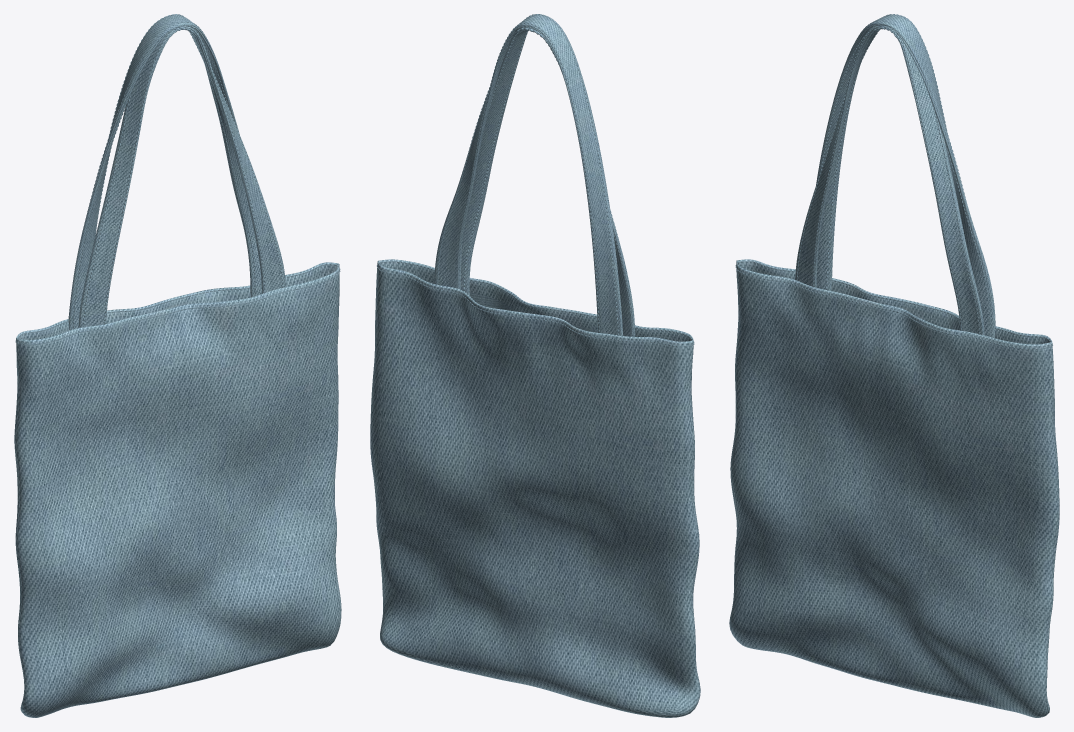
The picture shows the model from 3 angles, left to right: view 1: azimuth 30°, elevation 25°; view 2: azimuth 150°, elevation 25°; view 3: azimuth 330°, elevation 25°; orthographic projection.
Parts seen in each view (by area): view 1: Tui, Tay cam, Chi Tay Cam.005, Chi Tay Cam.001; view 2: Tui, Object001, Tay cam, Chi Tay Cam.007, Chi Tay Cam.003; view 3: Tui, Tay cam, Chi Tay Cam.005, Chi Tay Cam.001.
Boxes of the visible parts, x1=… form: Tui: x1=14, y1=262, x2=341, y2=717; Tay cam: x1=68, y1=14, x2=285, y2=330; Chi Tay Cam.005: x1=104, y1=26, x2=265, y2=324; Chi Tay Cam.001: x1=83, y1=73, x2=283, y2=327; Tui: x1=370, y1=259, x2=700, y2=717; Object001: x1=468, y1=400, x2=588, y2=580; Tay cam: x1=434, y1=14, x2=635, y2=336; Chi Tay Cam.007: x1=457, y1=23, x2=599, y2=332; Chi Tay Cam.003: x1=437, y1=14, x2=618, y2=335; Tui: x1=729, y1=259, x2=1059, y2=717; Tay cam: x1=795, y1=14, x2=995, y2=337; Chi Tay Cam.005: x1=813, y1=25, x2=961, y2=330; Chi Tay Cam.001: x1=796, y1=96, x2=979, y2=334.
Size of the model in its own units: 3824 by 7510 by 576.
1 material, 1 textured.
